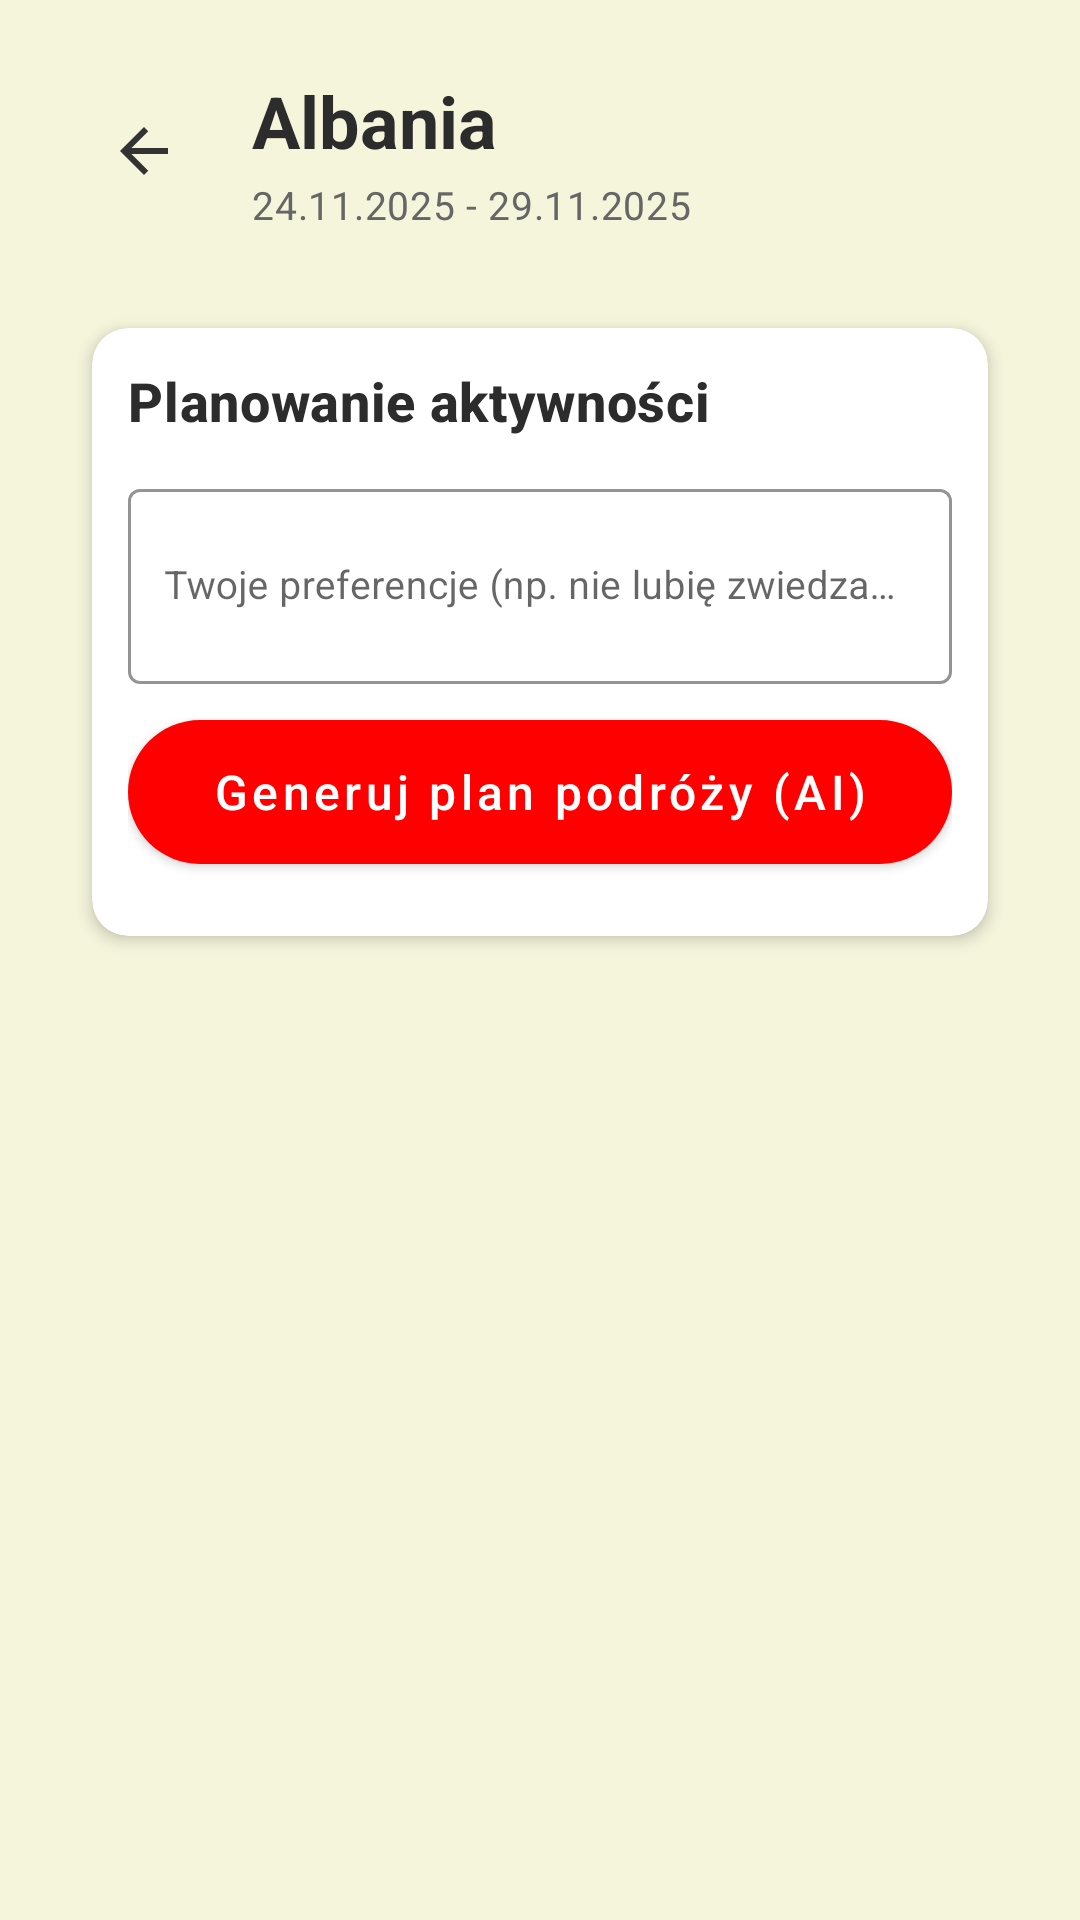

Locate icon controls on the screen. Image size 1080 × 1920, boxes as region(x1, y1, x2, y2).
Back: region(120, 127, 168, 175)
